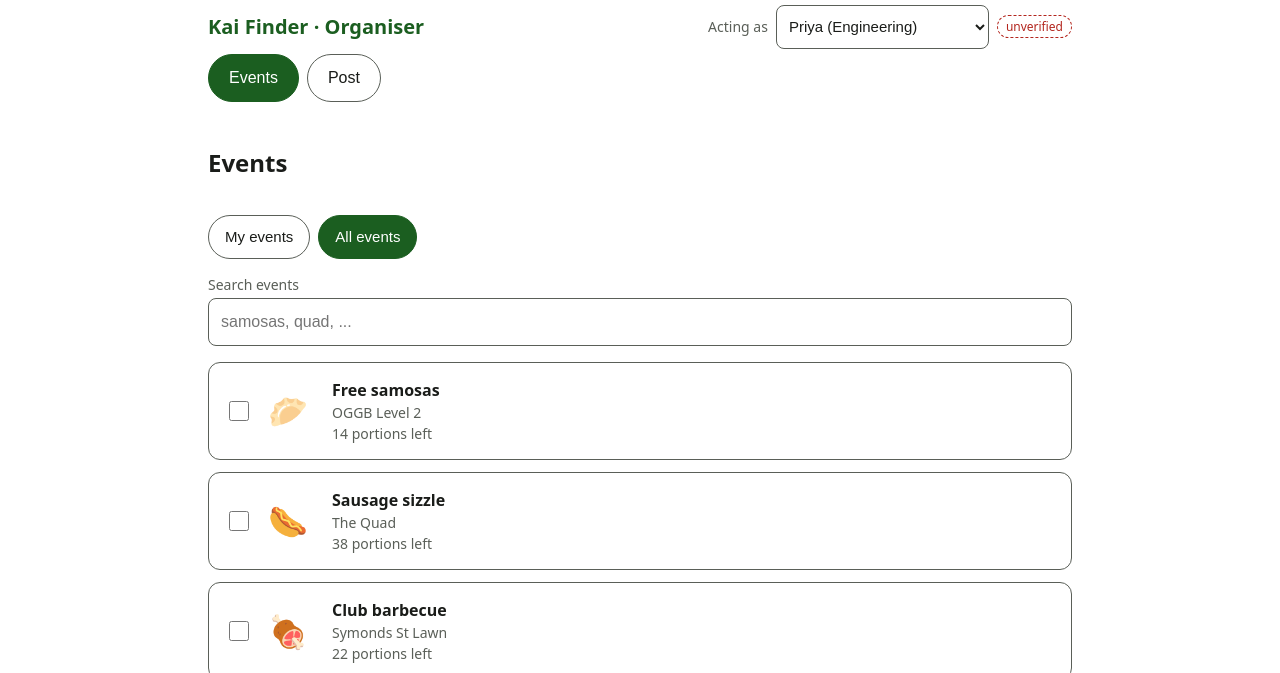
selection › counts what is ticked and totals their portions
Check: the heading "Free samosas" is shown, box [332,379,440,401]
Step 1. Click the checkbox named "Select Free samosas" → (239, 411), box [229,401,249,421]
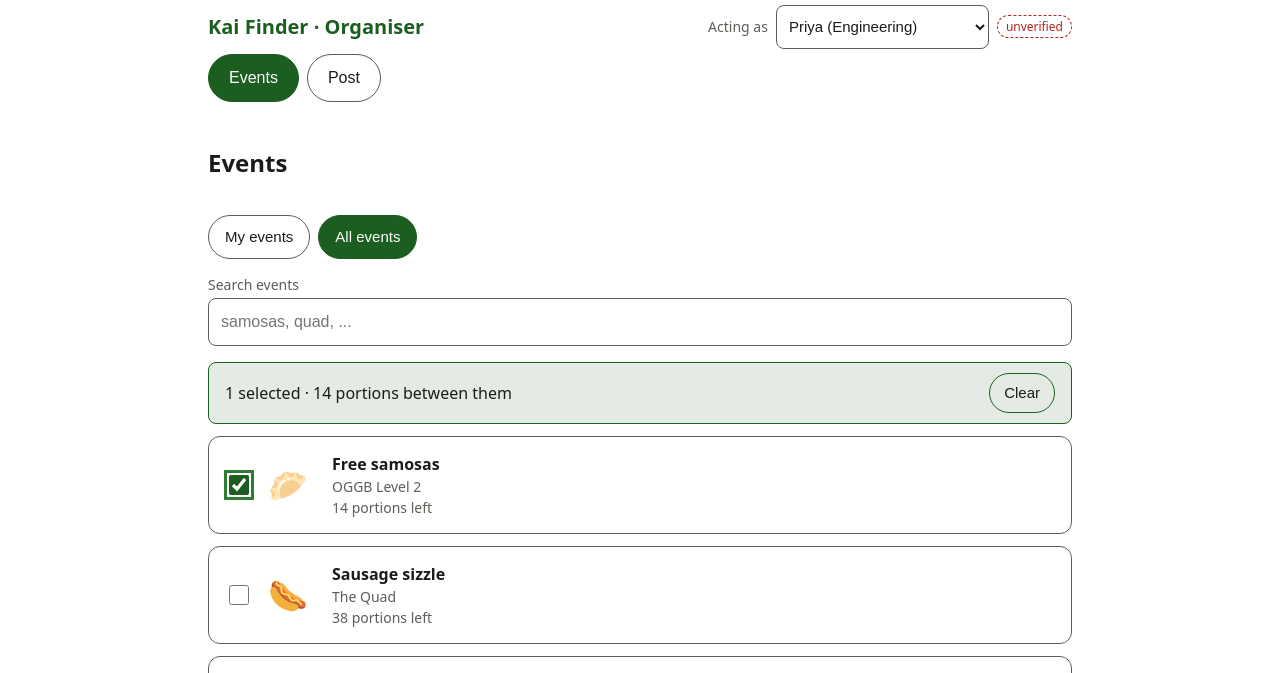
Check: the message shows "1 selected", box [225,382,512,404]
Check: the message shows "14 portions", box [225,382,512,404]
Step 2. Click the checkbox named "Select Sausage sizzle" → (239, 595), box [229,585,249,605]
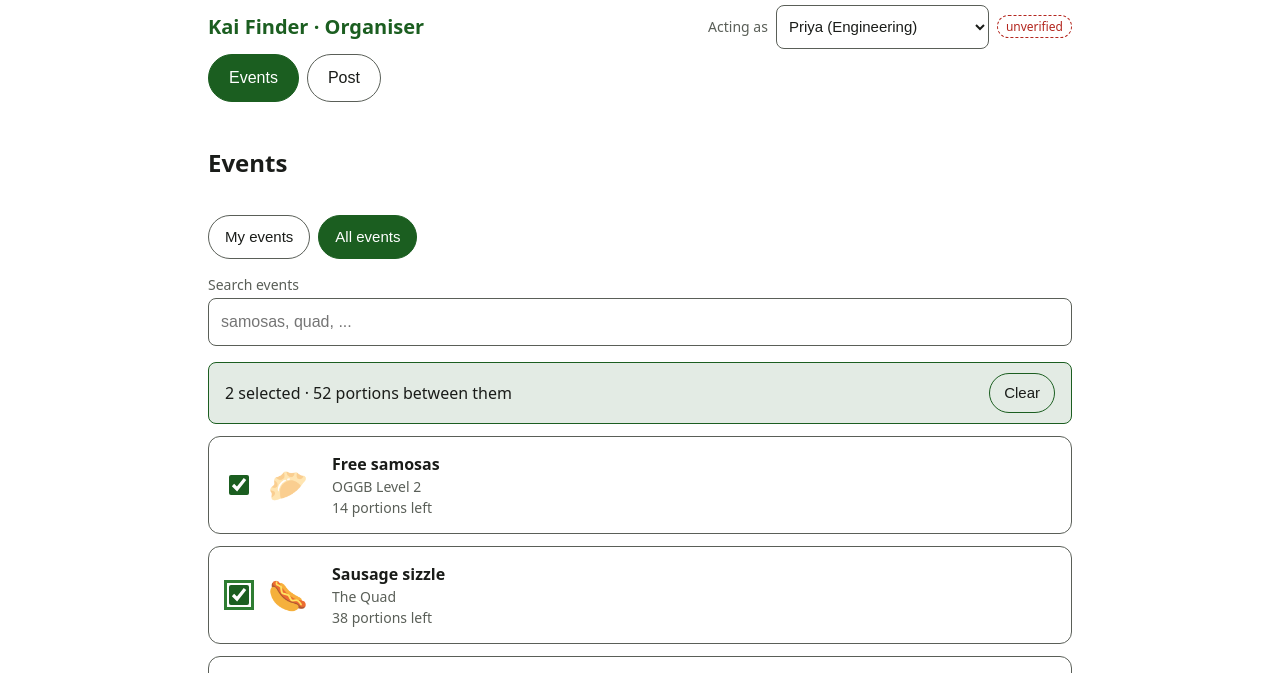
Check: the message shows "2 selected", box [225,382,512,404]
Check: the message shows "52 portions", box [225,382,512,404]
